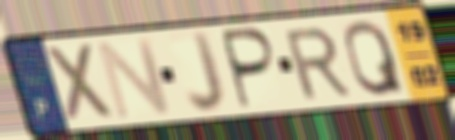J: (184, 29, 229, 116)
N: (93, 34, 174, 122)
P: (220, 25, 280, 113)
Q: (342, 17, 408, 98)
R: (281, 24, 354, 103)
X: (42, 40, 119, 127)
